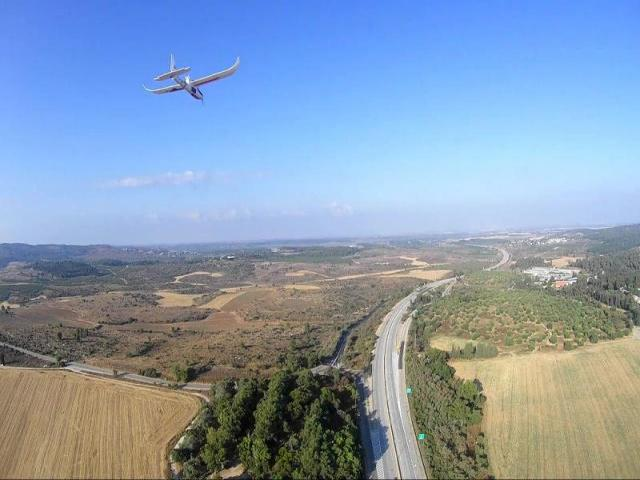hedef: (123, 39, 250, 121)
